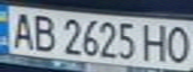2: (57, 16, 84, 56), (96, 18, 121, 60)
5: (115, 19, 142, 61)
6: (78, 17, 103, 59)
A: (6, 9, 39, 50)
B: (27, 12, 60, 53)
H: (139, 21, 172, 63)
O: (163, 22, 193, 64)
